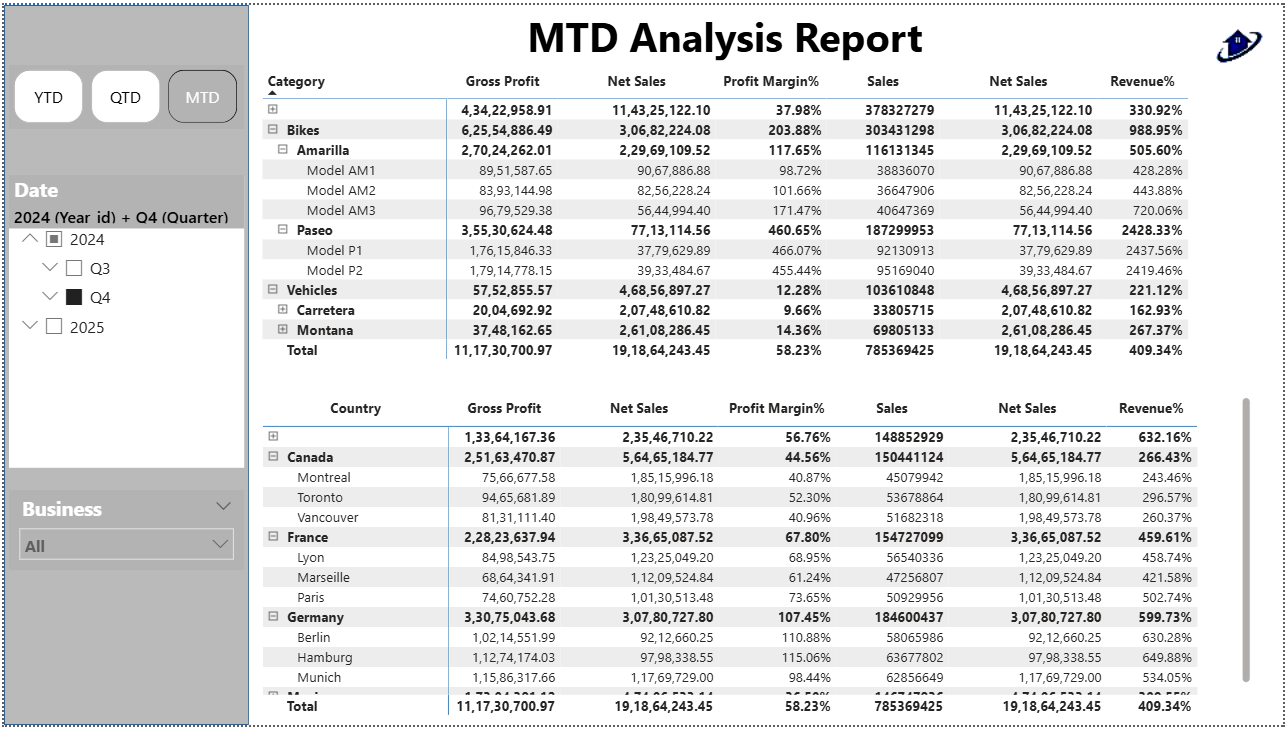

What the dashboard file says about the page in this screenshot:
{"tool":"powerbi","page":{"name":"MTD","canvas":[1280,720],"ordinal":4},"visuals":[{"type":"shape","box":[0,0,245,720],"z":0},{"type":"advancedSlicerVisual","fields":{"Values":["Time.Slicer"]},"box":[5,60,235,63.8],"z":1000},{"type":"slicer","title":"Date","fields":{"Values":["Dim_Date.Year_id","Dim_Date.Quarter","Dim_Date.Month_Name"]},"box":[5,170,235,292.5],"z":1000,"group":"g1"},{"type":"pivotTable","fields":{"Rows":["Dim-Location.Country","Dim-Location.City"],"Values":["Measures(1).Gross Profit","Measures(1).Selected Net Sales","Measures(1).Profit Margin%","Measures(1).Net Sales","Measures(1).Selected Net Sales","Measures(1).Revenue%"]},"box":[253.1,387.6,997.8,327.7],"z":2000},{"type":"actionButton","box":[317.9,0,100.3,40.4],"z":3000},{"type":"slicer","fields":{"Values":["Fact-Finance.Business"]},"box":[5,485,235,80],"z":4000},{"type":"pivotTable","fields":{"Rows":["Dim-Product.Category","Dim-Product.Product","Dim-Product.SubProduct"],"Values":["Measures(1).Gross Profit","Measures(1).Selected Net Sales","Measures(1).Profit Margin%","Measures(1).Net Sales","Measures(1).Selected Net Sales","Measures(1).Revenue%"]},"box":[253.1,59.9,1010.1,327.7],"z":5000},{"type":"shape","box":[253.1,0,934.2,59.9],"z":6000},{"type":"group","id":"g1","title":"Group 1","box":[5,170,235,292.5],"z":7000},{"type":"cardVisual","fields":{"Data":["Measures(1).Selected Date Header"]},"box":[5,196.2,235,27.5],"z":7001,"group":"g1"},{"type":"image","box":[1208.8,11.2,55,48.8],"z":8000}]}

Visuals, with their boxes on the page's 1280x720 design canvas (x1, y1, x2, y2). These are canvas units, not pixel positions in the 1287x730 screenshot, which may show the page scaled, cropped or inside an application window:
shape: 0 0 245 720
advancedSlicerVisual - Time.Slicer: 5 60 240 124
"Date" slicer: 5 170 240 462
pivotTable - Dim-Location.Country x Dim-Location.City: 253 388 1251 715
actionButton: 318 0 418 40
slicer - Fact-Finance.Business: 5 485 240 565
pivotTable - Dim-Product.Category x Dim-Product.Product: 253 60 1263 388
shape: 253 0 1187 60
"Group 1" group: 5 170 240 462
cardVisual - Measures(1).Selected Date Header: 5 196 240 224
image: 1209 11 1264 60
